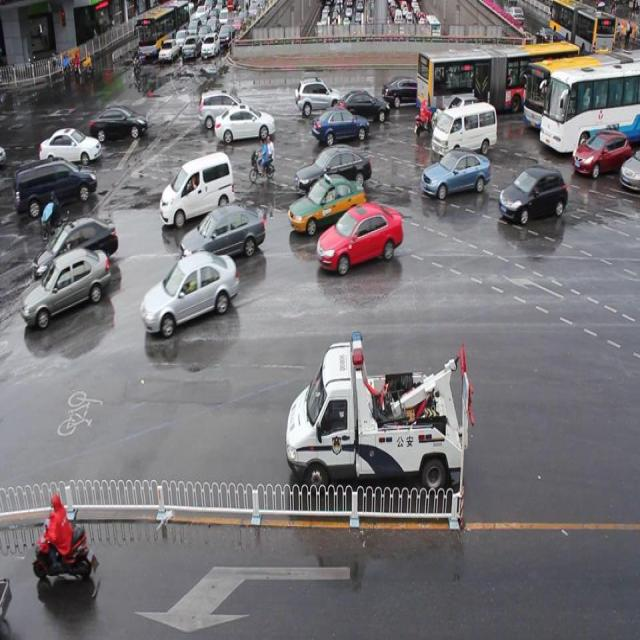bus: (284, 332, 473, 499)
car: (139, 252, 240, 336), (22, 247, 112, 324), (318, 202, 401, 272), (160, 154, 234, 224), (34, 218, 118, 276), (288, 174, 365, 233), (15, 160, 96, 215), (181, 205, 265, 258), (498, 168, 567, 223), (294, 145, 370, 193), (421, 148, 488, 198), (571, 132, 640, 176), (88, 101, 146, 142), (215, 105, 274, 144), (40, 127, 100, 163), (313, 107, 369, 145), (199, 86, 245, 130), (434, 98, 489, 134), (295, 76, 343, 115), (381, 76, 436, 108), (337, 88, 389, 120), (617, 150, 640, 193)
truck: (429, 104, 496, 157)
van: (416, 41, 577, 115), (539, 68, 640, 154), (522, 57, 640, 127)
